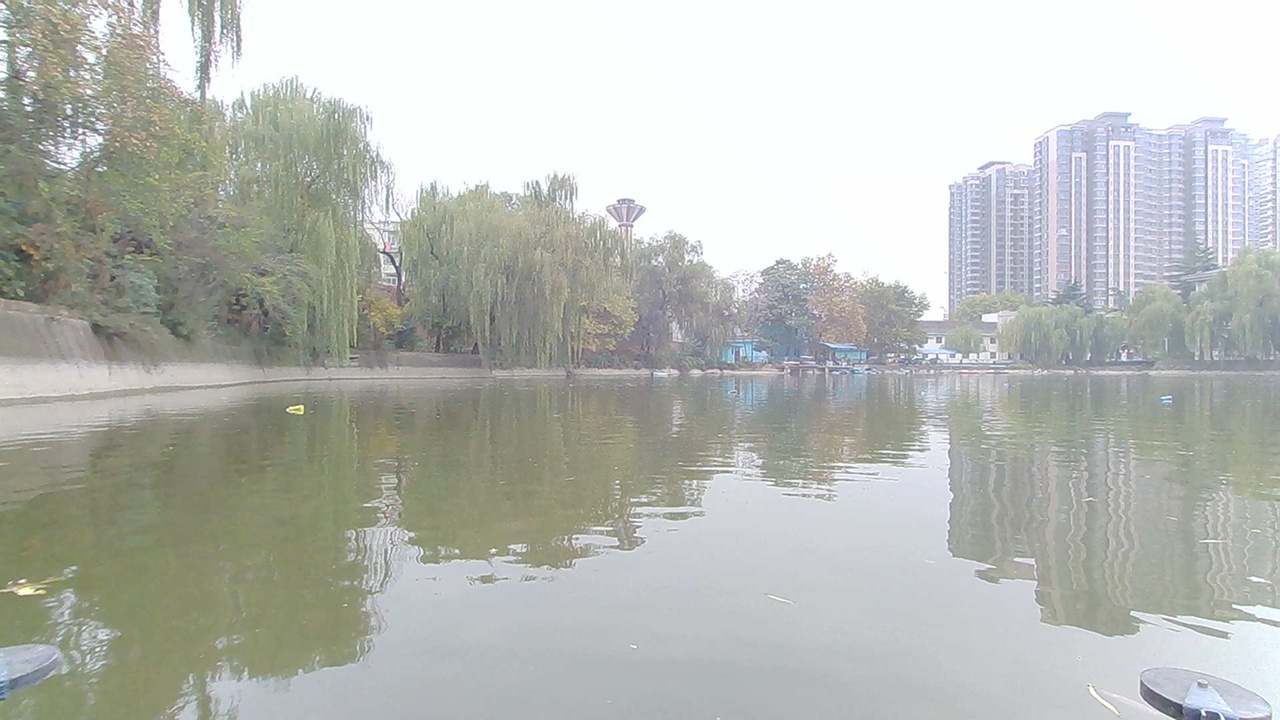bottle: (280, 398, 314, 421), (1157, 388, 1188, 411), (721, 388, 750, 403)
